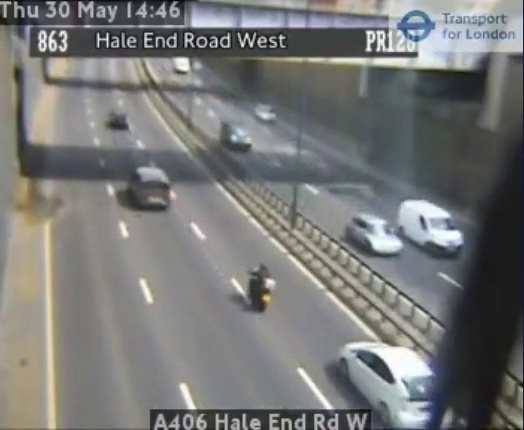car: (339, 340, 432, 423)
motorcycle: (247, 262, 275, 314)
van: (130, 167, 171, 209)
